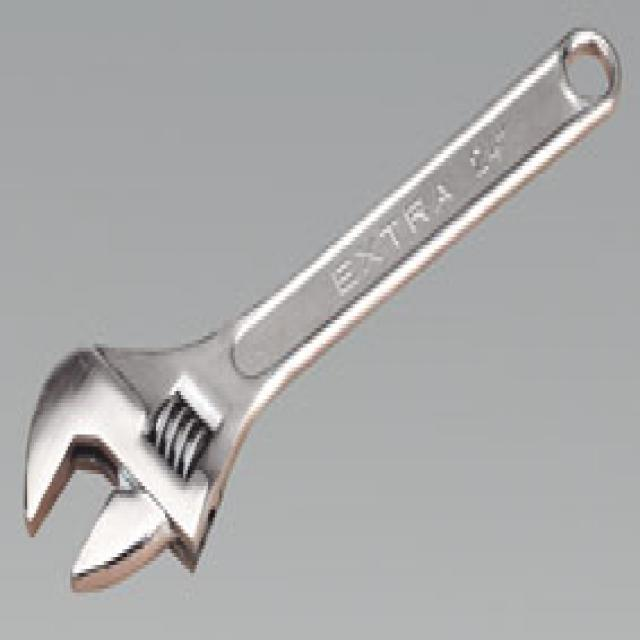wrench: (18, 24, 626, 608)
